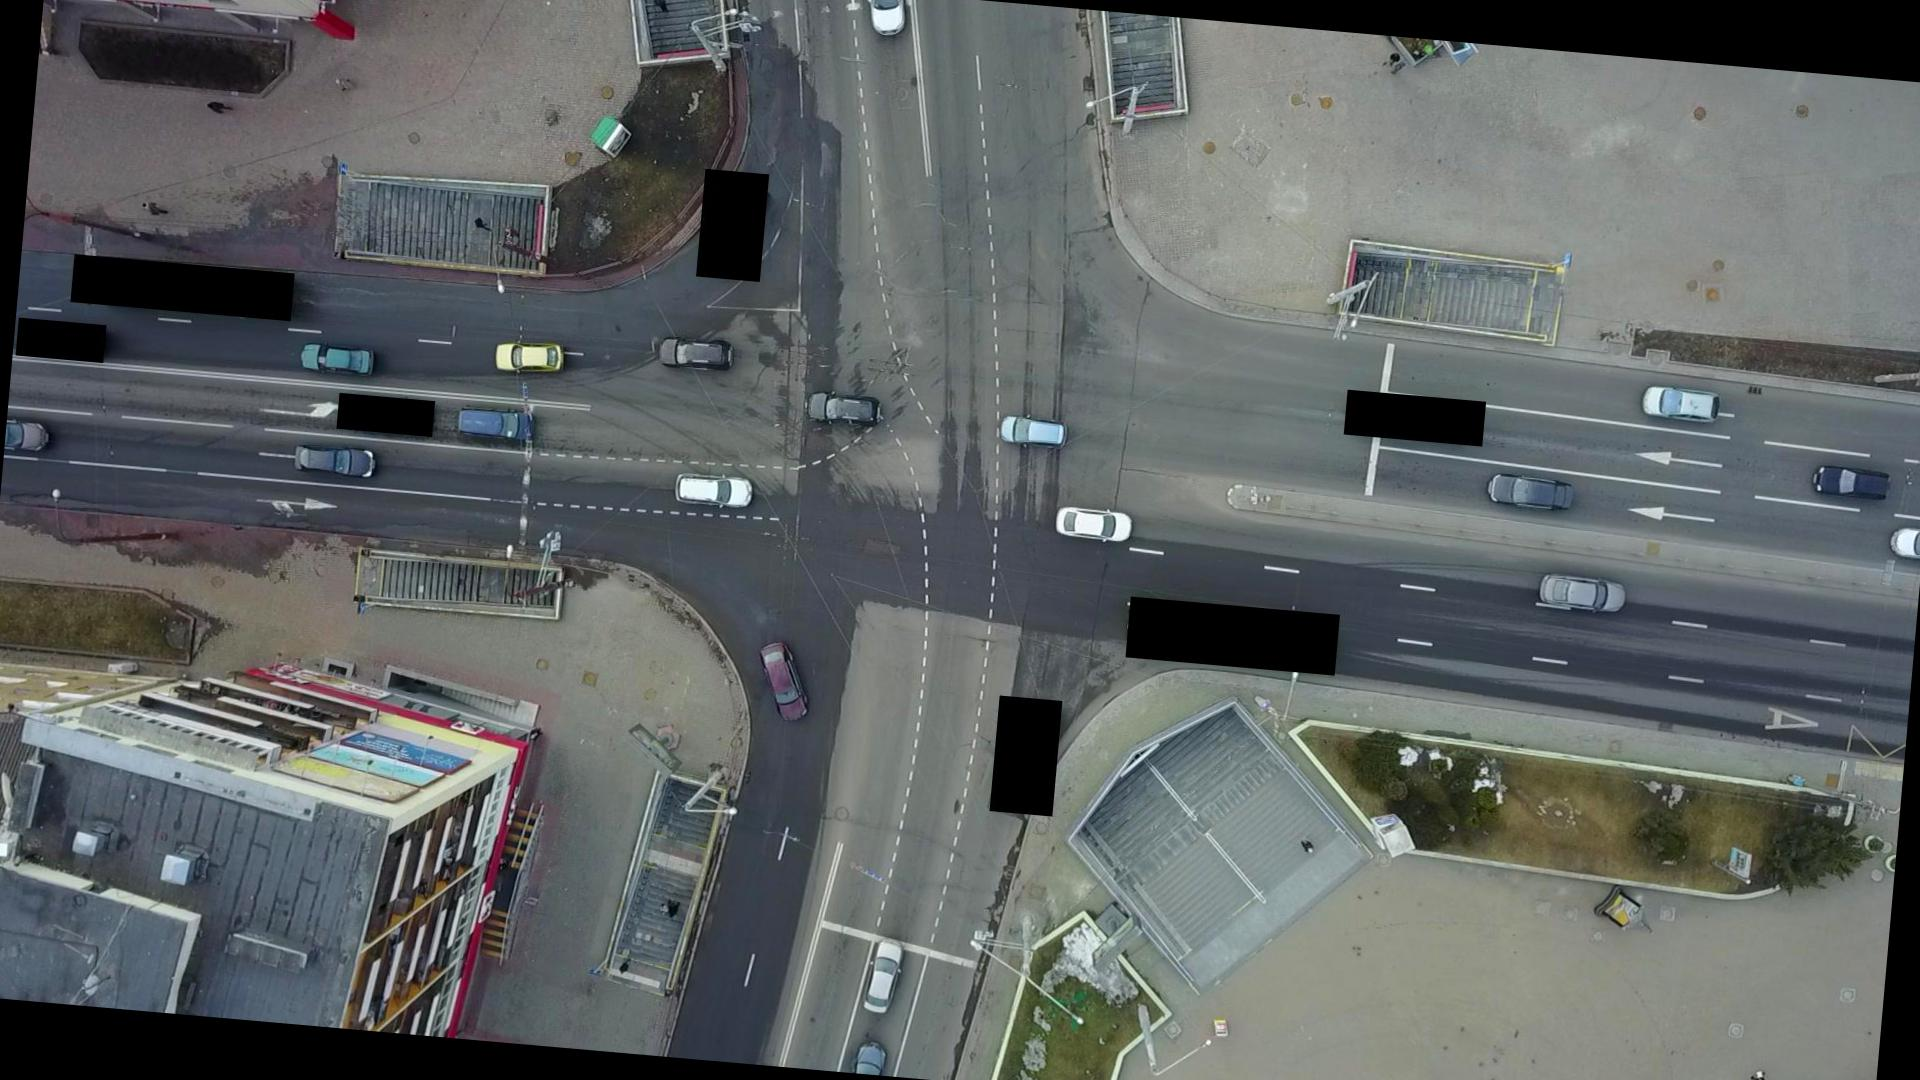vehicle: (753, 639, 818, 725), (1536, 570, 1626, 616), (1485, 470, 1578, 512), (1638, 382, 1722, 425), (862, 936, 906, 1016), (673, 469, 755, 511), (655, 333, 736, 375), (292, 440, 377, 480), (1054, 503, 1134, 544), (456, 404, 539, 443), (805, 388, 882, 430), (1810, 463, 1892, 502), (998, 410, 1072, 452), (299, 339, 377, 378), (492, 339, 566, 378)
